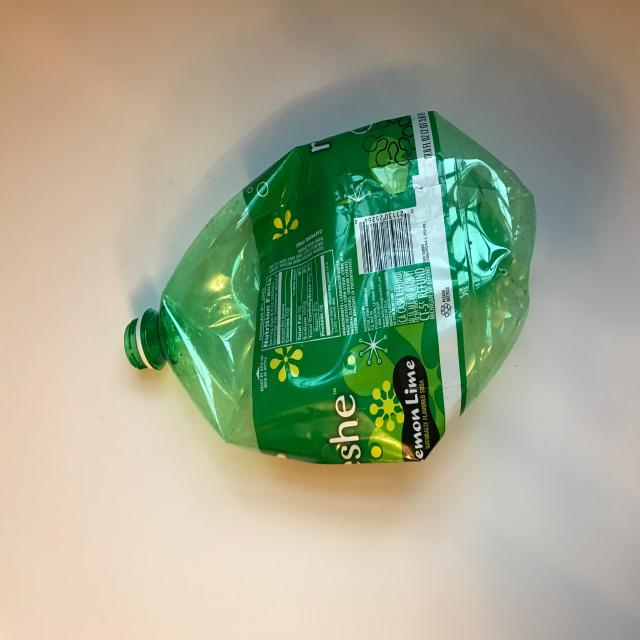plastic: (124, 109, 536, 466)
